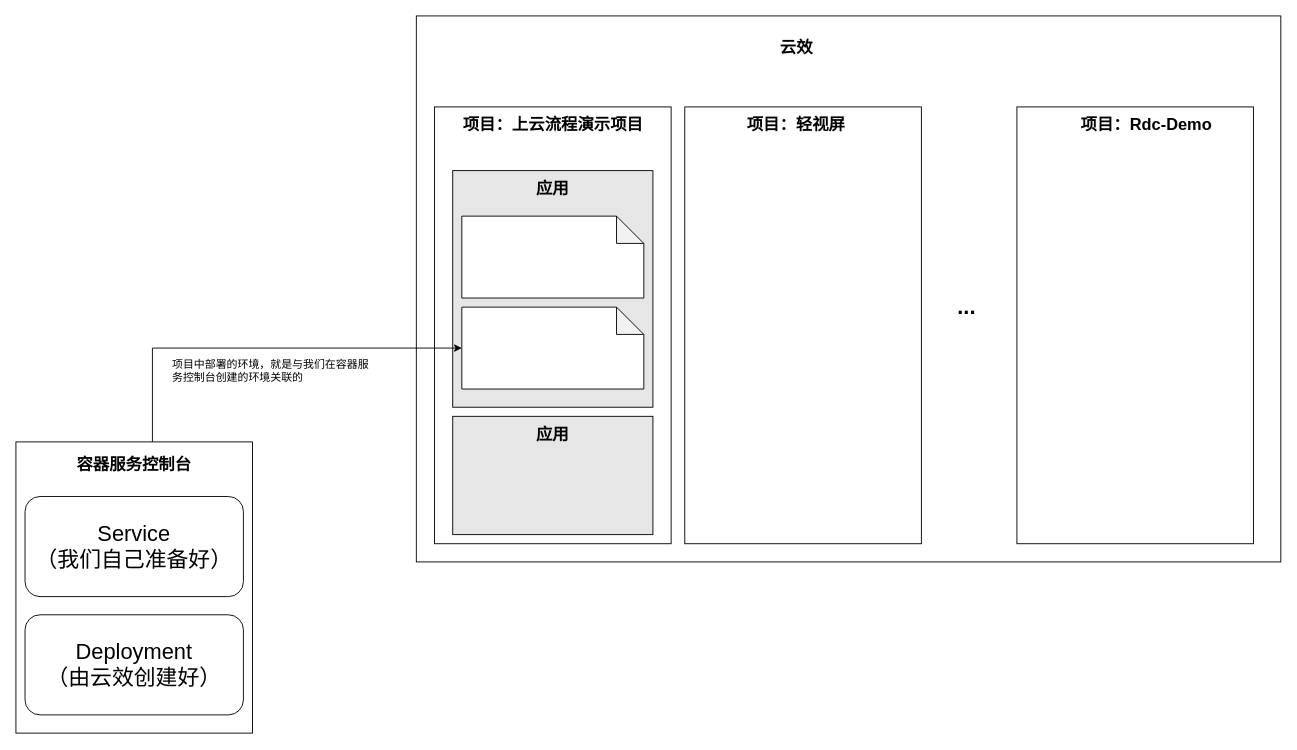
This 1297x750 diagram has some shape labels left out. The shapes that lost their labels are listed below. From the top down, each one's centre as x and y in pixels, then its label:
the point at 552,256: 流水线
the point at 552,347: 环境
